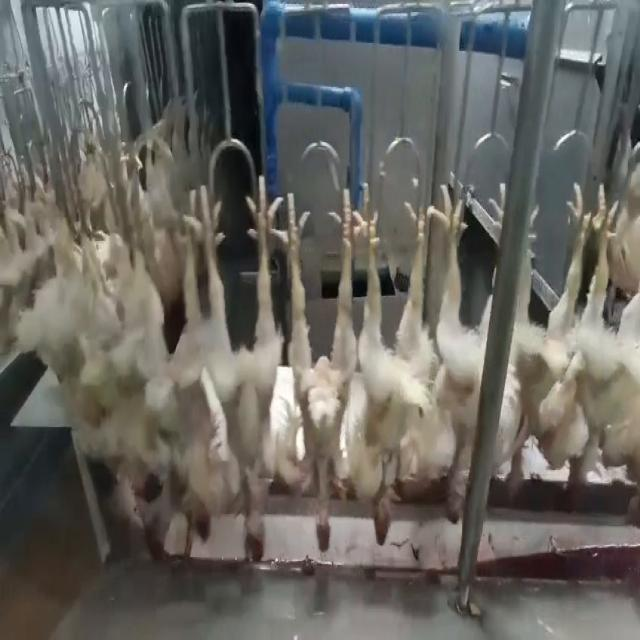chicken: (342, 182, 431, 550), (208, 160, 282, 572), (422, 178, 508, 526), (282, 191, 359, 560), (133, 179, 205, 555), (513, 181, 587, 499), (591, 186, 639, 502)
